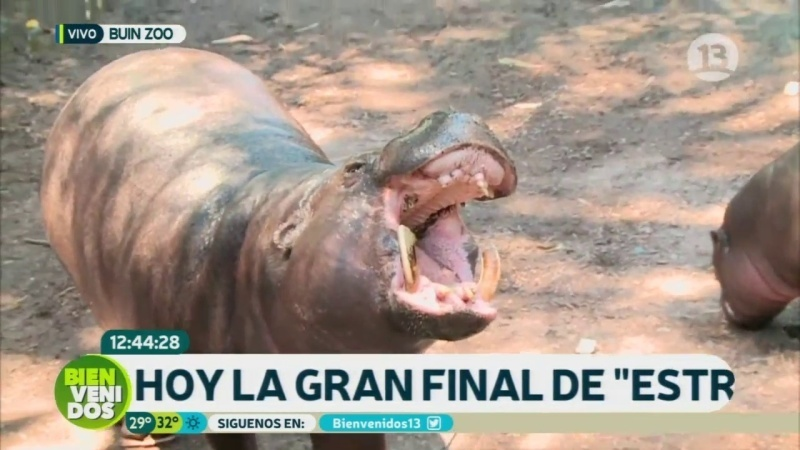hipopotamo: (21, 37, 553, 354)
